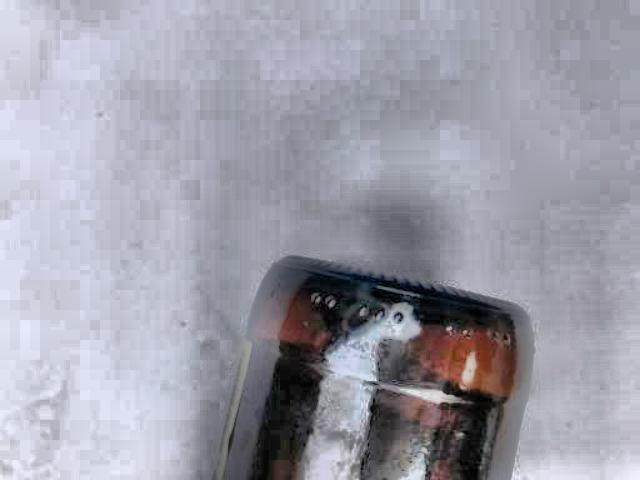Bottles: (195, 264, 547, 480)
